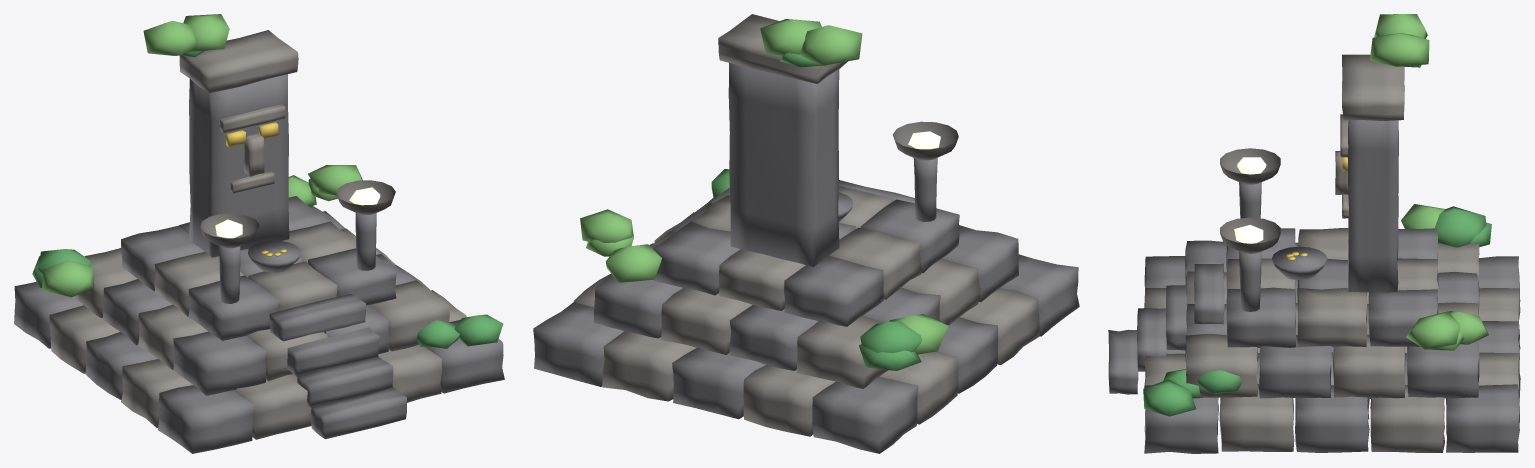
File: poi_jungle_shrine.0710d3f4.glb
The picture shows the model from 3 angles, left to right: view 1: azimuth 30°, elevation 25°; view 2: azimuth 150°, elevation 25°; view 3: azimuth 270°, elevation 25°; orthographic projection. The views are drawn at different scales.
Parts seen in each view (by area): view 1: poi_jungle_shrine; view 2: poi_jungle_shrine; view 3: poi_jungle_shrine.
Boxes of the visible parts, x1,y1,x2,y2 form: poi_jungle_shrine: (14, 14, 504, 453); poi_jungle_shrine: (533, 14, 1079, 453); poi_jungle_shrine: (1108, 14, 1520, 453).
Size of the model in its own units: 4.86 by 4.49 by 5.03.
